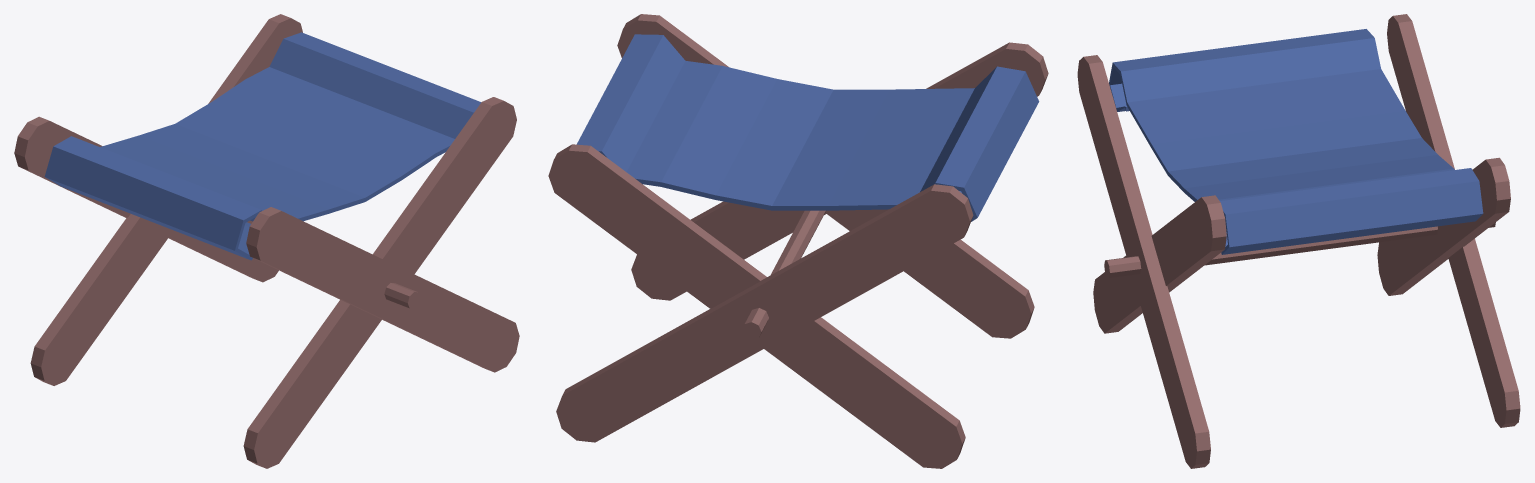
Rendered from Chair3.fbx.
The picture shows the model from 3 angles, left to right: view 1: azimuth 30°, elevation 25°; view 2: azimuth 150°, elevation 25°; view 3: azimuth 270°, elevation 25°; orthographic projection. The views are drawn at different scales.
Visible parts, largest first — view 1: Plane.004, Cylinder.007, Cylinder.006, Cylinder.009; view 2: Plane.004, Cylinder.007, Cylinder.006, Cylinder.009; view 3: Plane.004, Cylinder.006, Cylinder.007, Cylinder.009.
Boxes of the visible parts, x1,y1,x2,y2 form: Plane.004: (44,32,481,260); Cylinder.007: (30,14,516,468); Cylinder.006: (14,116,519,372); Cylinder.009: (384,283,420,308); Plane.004: (576,34,1039,221); Cylinder.007: (548,14,1034,468); Cylinder.006: (556,42,1048,442); Cylinder.009: (741,210,825,340); Plane.004: (1109,29,1483,254); Cylinder.006: (1077,14,1520,468); Cylinder.007: (1093,157,1510,333); Cylinder.009: (1104,222,1495,277).
Size of the model in its own units: 38.88 by 23.46 by 35.23.
